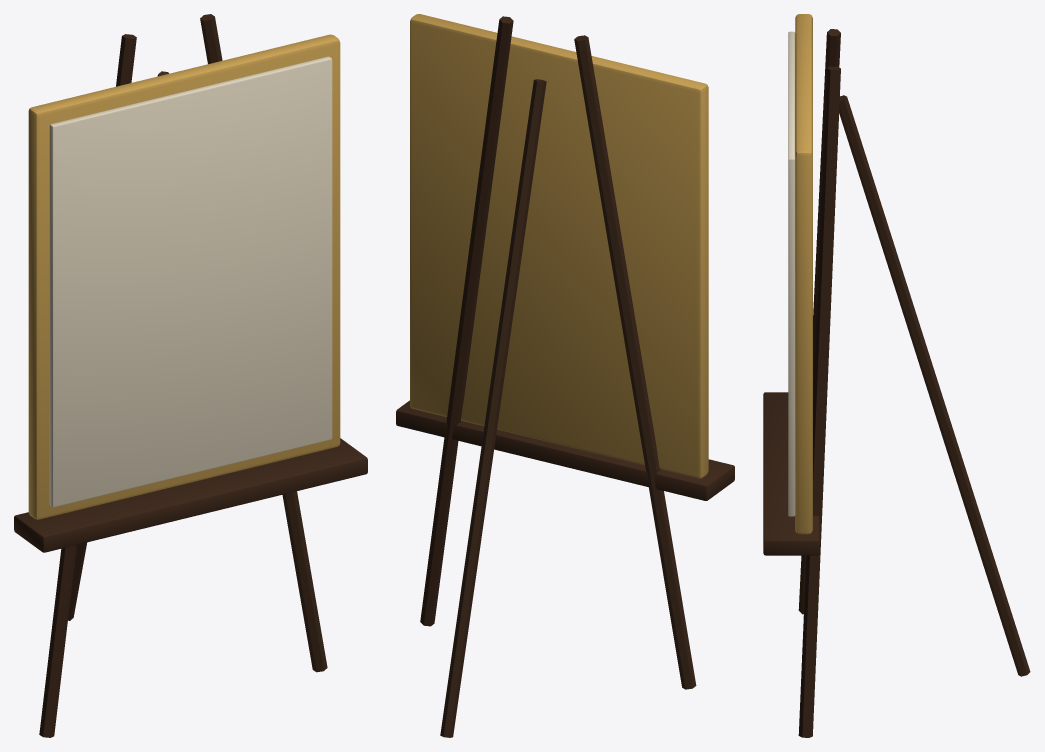
File: easel.glb
The picture shows the model from 3 angles, left to right: view 1: azimuth 30°, elevation 25°; view 2: azimuth 150°, elevation 25°; view 3: azimuth 270°, elevation 25°; orthographic projection. The views are drawn at different scales.
Visible parts, largest first — view 1: easel; view 2: easel; view 3: easel.
Boxes of the visible parts, x1,y1,x2,y2 form: easel: [14, 14, 367, 737]; easel: [396, 14, 734, 737]; easel: [763, 14, 1030, 737].
Size of the model in its own units: 1 by 1.96 by 0.7573.
